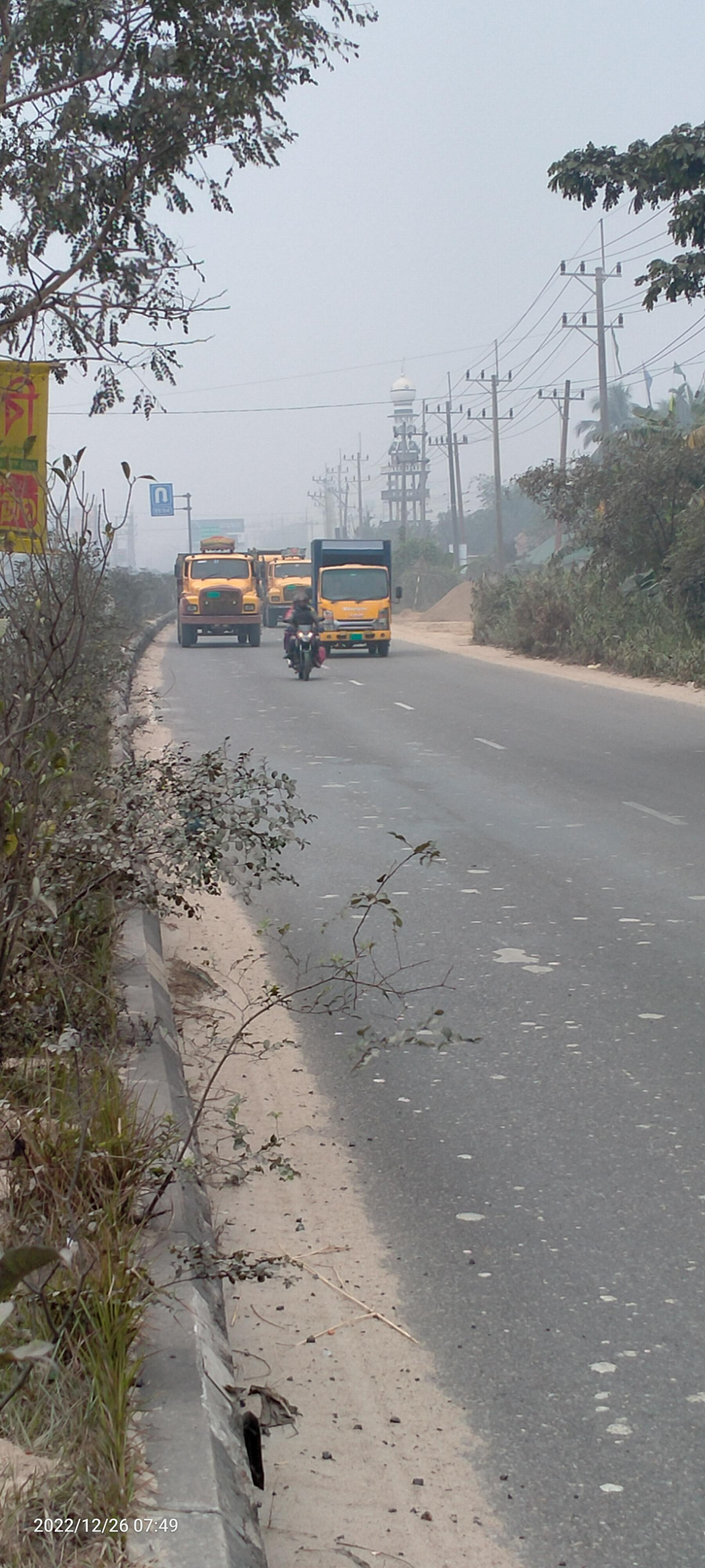Bike: (276, 588, 343, 699)
Truck: (305, 524, 416, 673), (173, 531, 272, 650), (264, 545, 324, 625)
